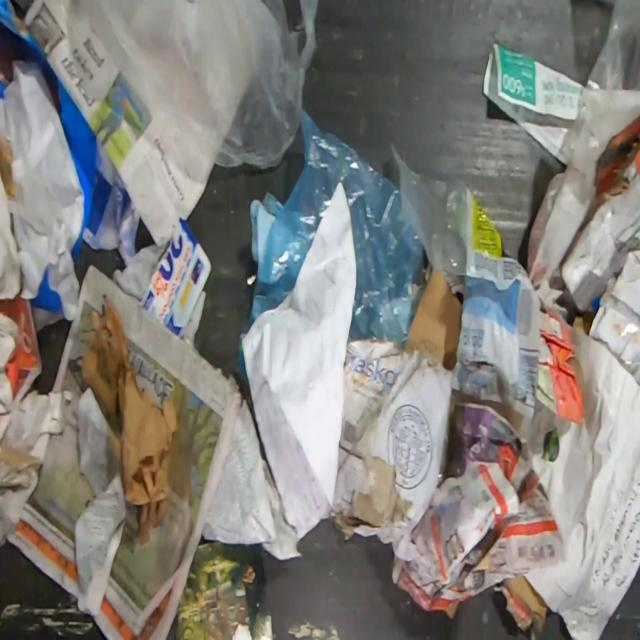cardboard: (328, 336, 455, 562), (139, 215, 212, 338), (534, 311, 586, 424), (404, 268, 461, 371), (504, 575, 548, 631)
soft_plastic: (390, 140, 542, 444), (80, 0, 320, 184), (244, 108, 425, 351), (0, 59, 85, 321), (585, 0, 640, 90), (587, 305, 640, 384)
